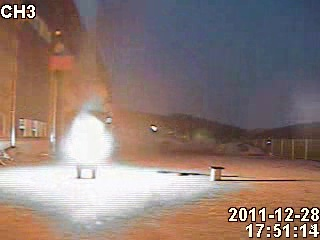fire: (61, 113, 113, 164)
